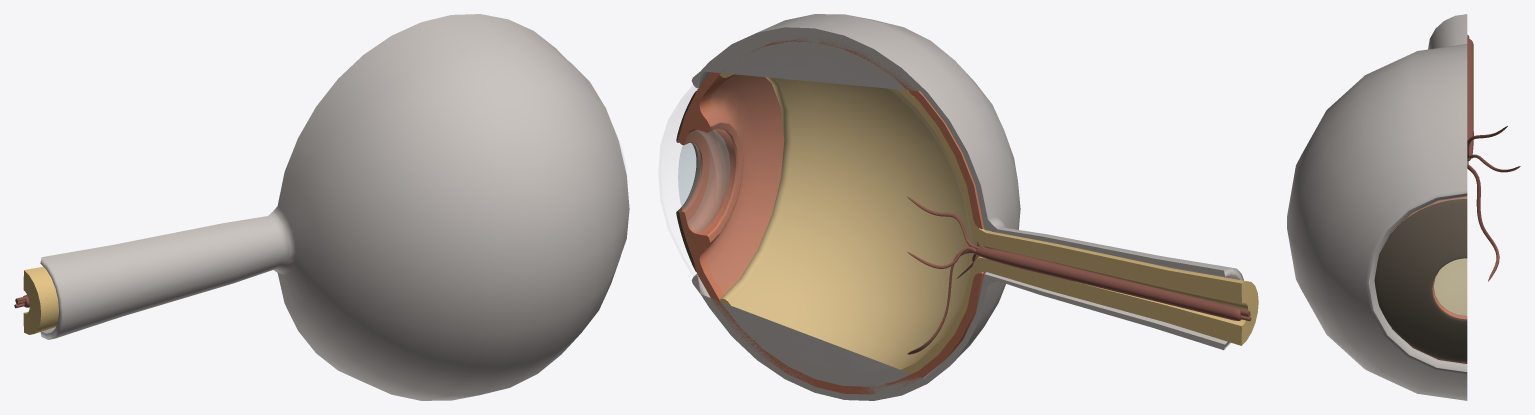
File: eyeball half.fbx
3 renders of one model, left to right at view 1: azimuth 30°, elevation 25°; view 2: azimuth 150°, elevation 25°; view 3: azimuth 270°, elevation 25°, orthographic. The views are drawn at different scales.
Visible parts, largest first — view 1: sclera, retina; view 2: retina, vitreous_body, sclera, choroid, lens, nerve_thick, sclera_clear, nerves, iris; view 3: sclera, sclera_clear, iris, retina, lens, nerves, nerve_thick, choroid.
Part boxes in pixels (x1,y1,x2,y2): sclera: (40,14,629,400); retina: (23,266,58,334); retina: (719,73,1258,373); vitreous_body: (708,75,976,366); sclera: (691,14,1243,400); choroid: (678,38,993,394); lens: (678,130,729,231); nerve_thick: (974,248,1241,320); sclera_clear: (659,86,696,275); nerves: (907,196,1251,354); iris: (676,91,698,271); sclera: (1287,14,1467,400); sclera_clear: (1375,197,1466,364); iris: (1374,199,1467,361); retina: (1434,258,1467,315); lens: (1434,258,1466,315); nerves: (1467,35,1520,281); nerve_thick: (1467,38,1473,160); choroid: (1391,196,1467,363).
Bounding box in the file's own units: 69.84 × 41.08 × 26.64.
